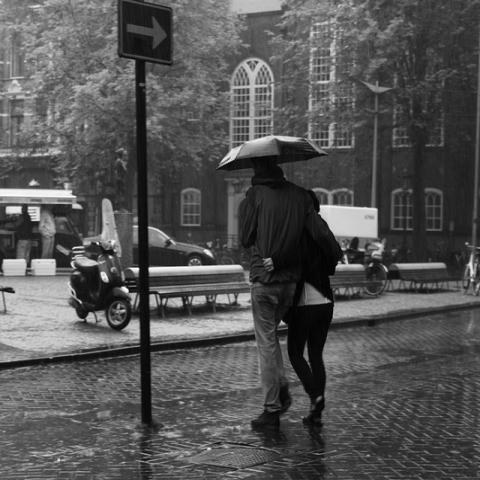car: (133, 226, 216, 267)
motorcycle: (70, 237, 132, 337)
